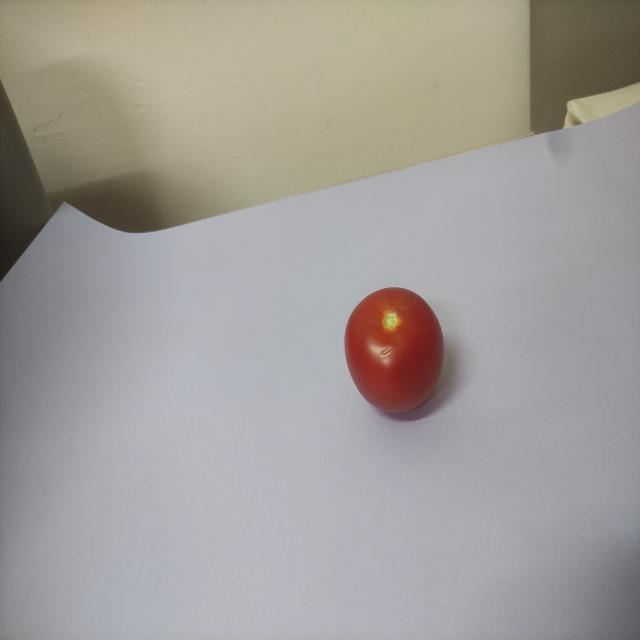kirmizi: (324, 275, 455, 431)
